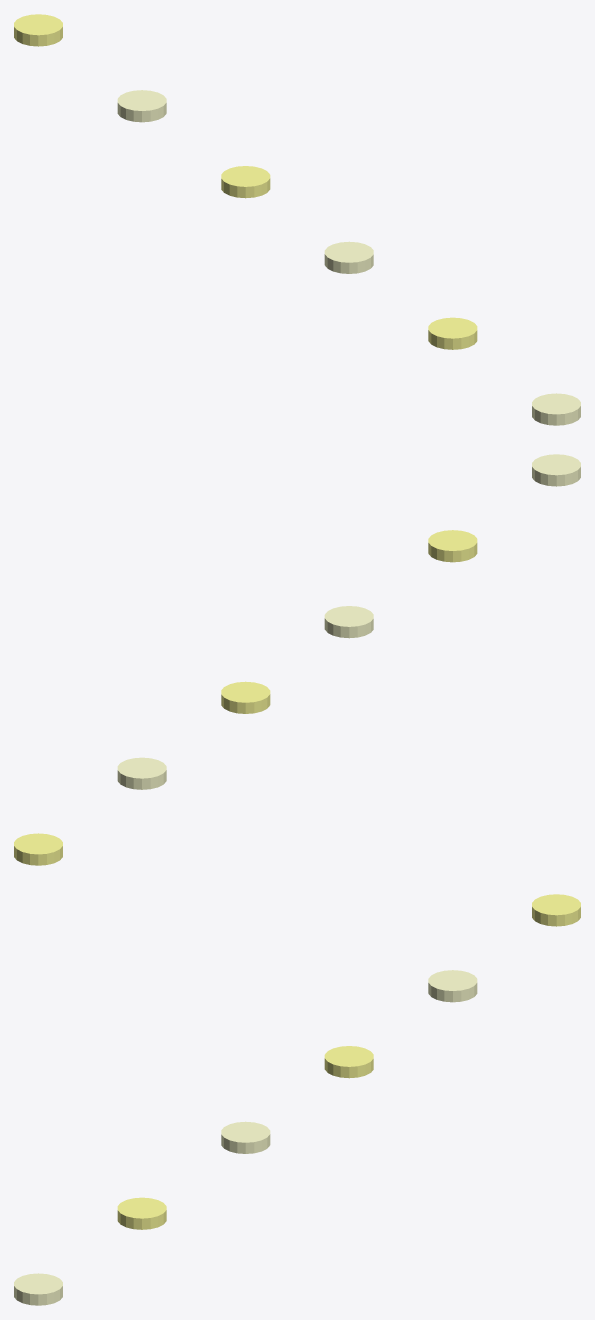
Rendered from marking_raised_marker_bicolor.glb.
3 views of the same model, one above another, from view 1: azimuth 30°, elevation 25°; view 2: azimuth 150°, elevation 25°; view 3: azimuth 330°, elevation 25° (orthographic).
Parts seen in each view (by area): view 1: marker_1, marker_4, marker_2, marker_3, marker_0, marker_5; view 2: marker_1, marker_4, marker_2, marker_3, marker_0, marker_5; view 3: marker_1, marker_4, marker_2, marker_3, marker_0, marker_5.
Part boxes in pixels (x1,y1,x2,y2): marker_1: [117, 90, 166, 122]; marker_4: [428, 317, 477, 349]; marker_2: [221, 166, 270, 198]; marker_3: [324, 241, 373, 273]; marker_0: [14, 14, 62, 46]; marker_5: [532, 393, 580, 425]; marker_1: [117, 757, 166, 789]; marker_4: [428, 530, 477, 562]; marker_2: [221, 681, 270, 713]; marker_3: [324, 606, 373, 638]; marker_0: [14, 833, 62, 865]; marker_5: [532, 454, 580, 486]; marker_1: [428, 970, 477, 1002]; marker_4: [117, 1197, 166, 1229]; marker_2: [324, 1046, 373, 1078]; marker_3: [221, 1121, 270, 1153]; marker_0: [532, 894, 580, 926]; marker_5: [14, 1273, 62, 1305].
Size of the model in its own units: 0.12 by 0.03 by 2.62.
